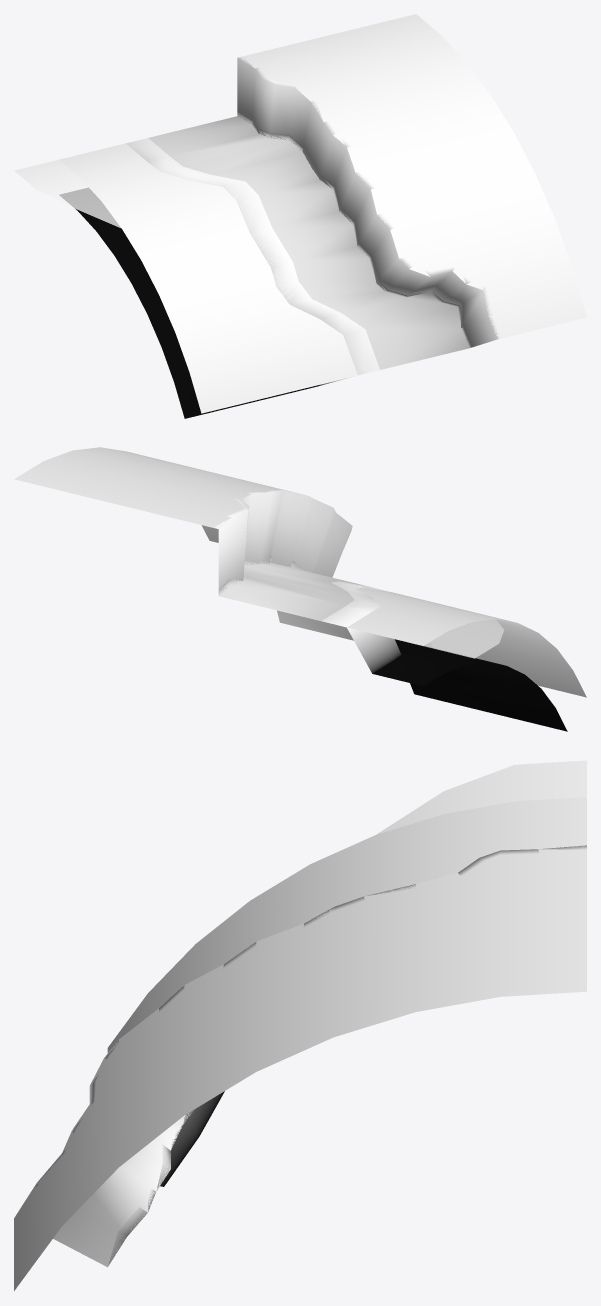
Rendered from grd_Msw_w_2.dae.
3 views of the same model, one above another, from view 1: azimuth 30°, elevation 25°; view 2: azimuth 150°, elevation 25°; view 3: azimuth 270°, elevation 25° (orthographic). The views are drawn at different scales.
Parts seen in each view (by area): view 1: grass_3_0, ocean_4_0, beach_0_0, cliff_2_0, beach_1_0, wave_5_0; view 2: grass_3_0, beach_1_0, cliff_2_0, ocean_4_0, beach_0_0, wave_5_0; view 3: grass_3_0, ocean_4_0, wave_5_0, cliff_2_0, beach_1_0, beach_0_0.
Boxes of the visible parts, x1,y1,x2,y2 form: grass_3_0: (239,14,586,338); ocean_4_0: (59,143,357,413); beach_0_0: (148,110,471,369); cliff_2_0: (237,56,502,347); beach_1_0: (60,138,379,418); wave_5_0: (14,144,376,401); grass_3_0: (14,447,302,542); beach_1_0: (321,581,567,731); cliff_2_0: (213,489,352,594); ocean_4_0: (347,587,586,697); beach_0_0: (218,556,363,640); wave_5_0: (340,583,553,680); grass_3_0: (14,846,586,1290); ocean_4_0: (107,797,586,1052); wave_5_0: (244,760,586,949); cliff_2_0: (14,845,586,1266); beach_1_0: (160,1091,224,1186); beach_0_0: (108,1109,194,1266).
Bounding box in the file's own units: 576 × 308 × 423.
Materials: 6 (1 with a texture image).
